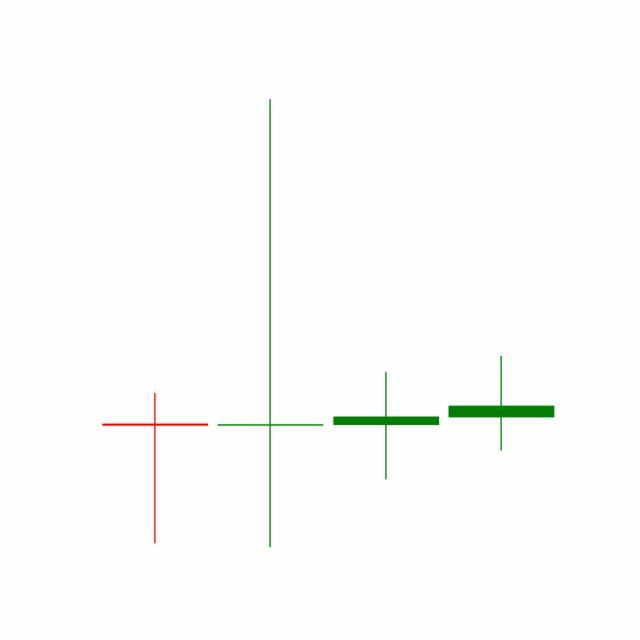Spinning Top: (329, 370, 445, 481)
